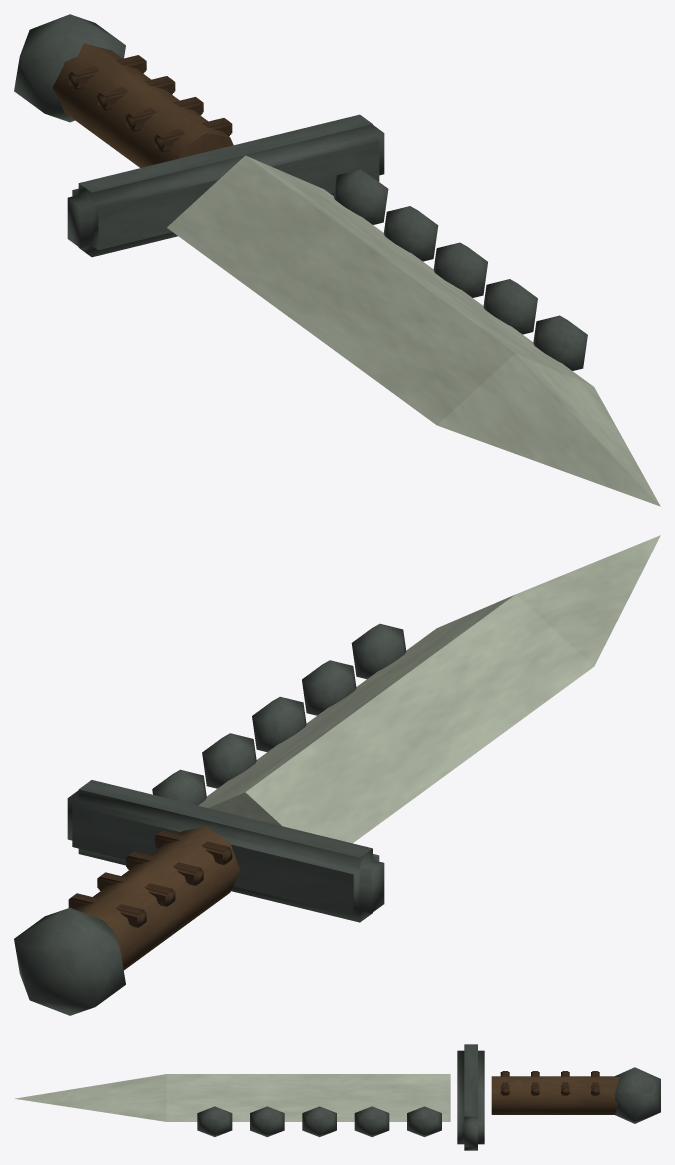
Rendered from item-Sporeblade.fbx.
The picture shows the model from 3 angles, top to bottom: view 1: azimuth 30°, elevation 25°; view 2: azimuth 150°, elevation 25°; view 3: azimuth 270°, elevation 25°; orthographic projection. The views are drawn at different scales.
Visible parts, largest first — view 1: item-Sporeblade__Geometry; view 2: item-Sporeblade__Geometry; view 3: item-Sporeblade__Geometry.
Part boxes in pixels (box(x1,y1,x2,y2)): item-Sporeblade__Geometry: box(14, 14, 660, 506); item-Sporeblade__Geometry: box(14, 535, 660, 1015); item-Sporeblade__Geometry: box(15, 1044, 660, 1150).
Bounding box in the file's own units: 0.27 × 0.092 × 0.9483.
Materials: 1 (1 with a texture image).
